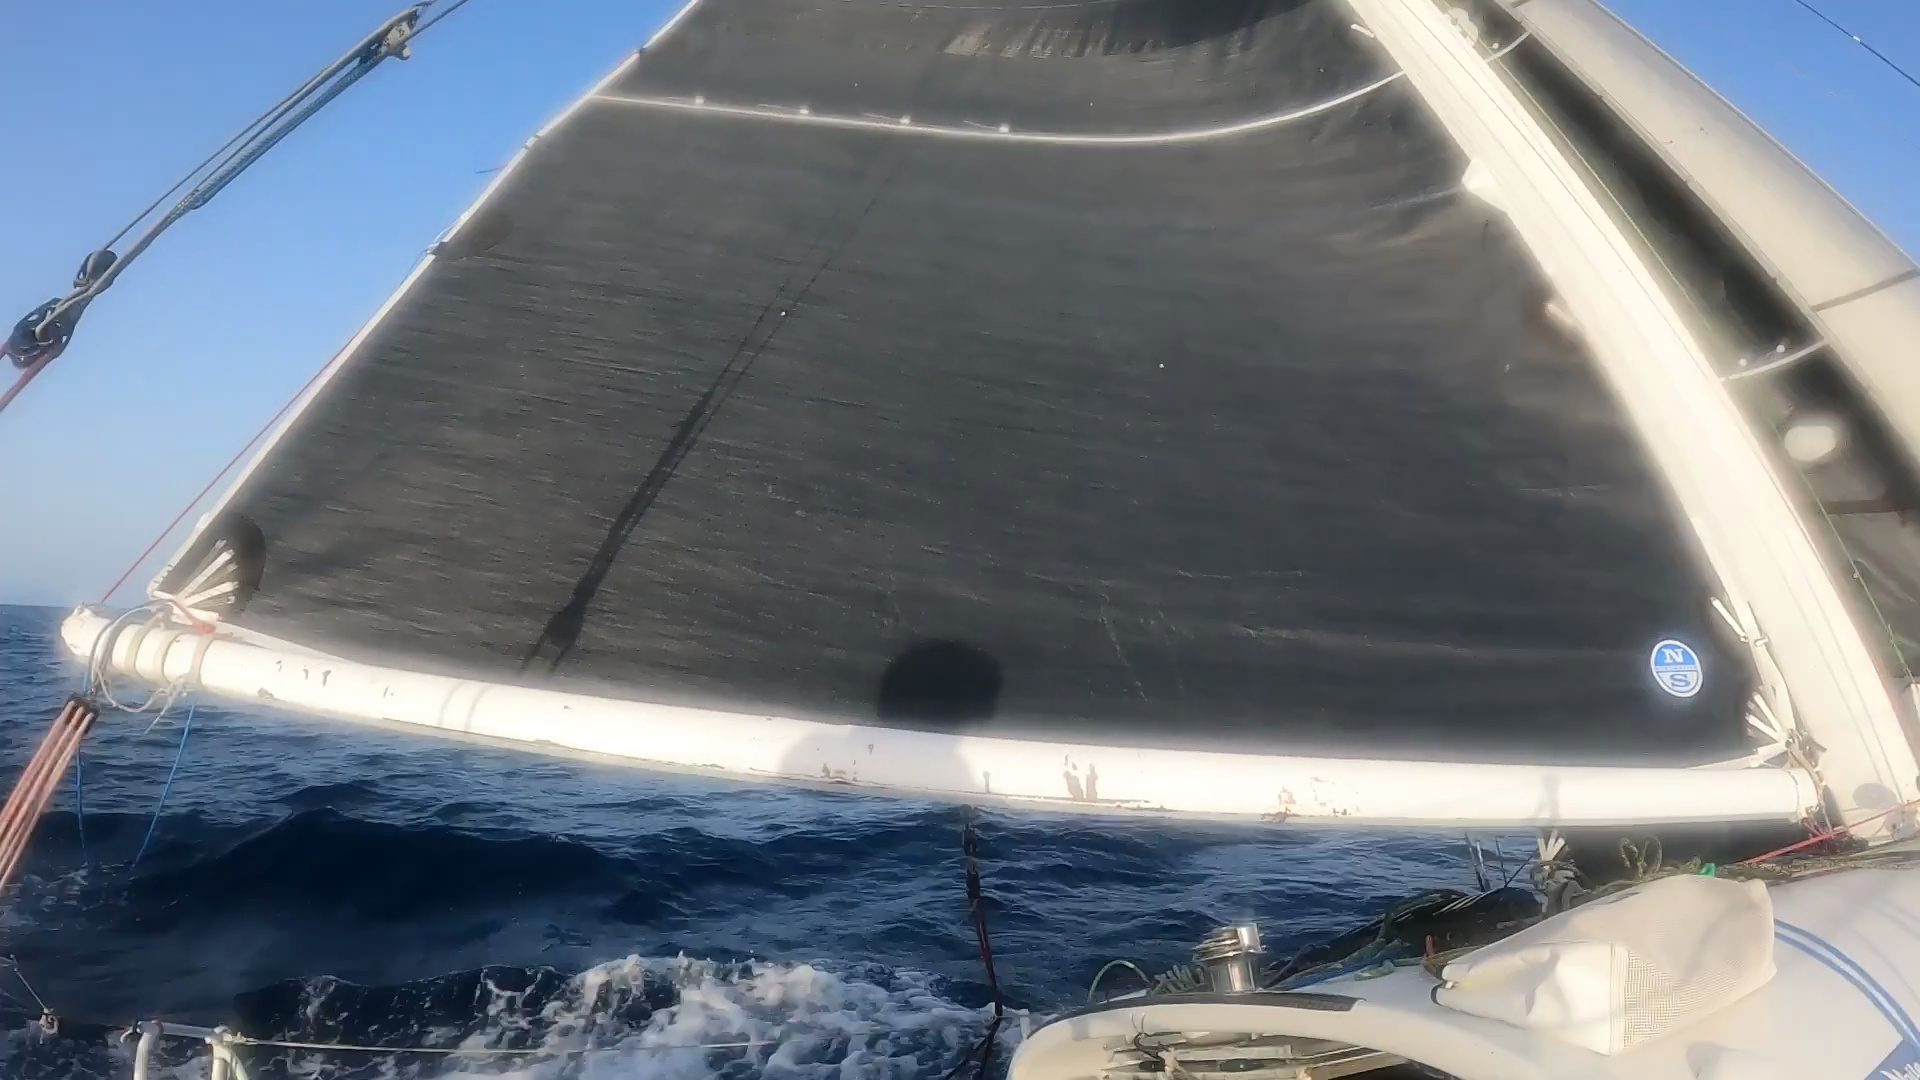pennon_attached: (961, 111, 1015, 138), (657, 88, 716, 112), (746, 99, 812, 120), (862, 105, 913, 132)
pennon_leech: (469, 160, 517, 178)
